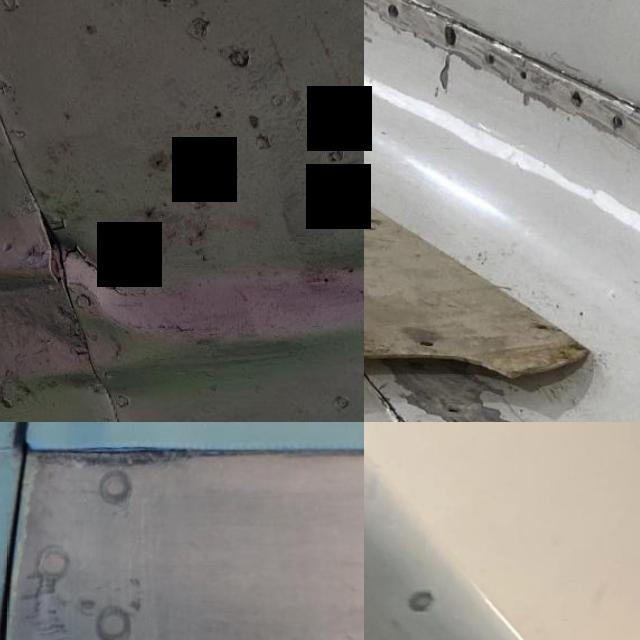Crack: (364, 0, 611, 73), (56, 234, 128, 296)
Dent: (0, 154, 364, 422)
Missing_Fastener: (608, 108, 628, 128), (441, 400, 464, 416)
